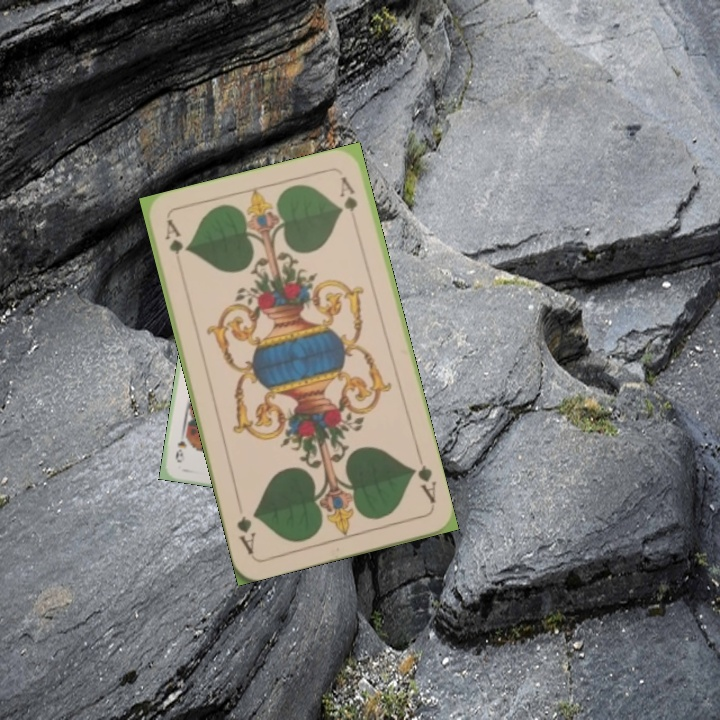GA: (161, 216, 187, 274), (407, 460, 439, 506)
